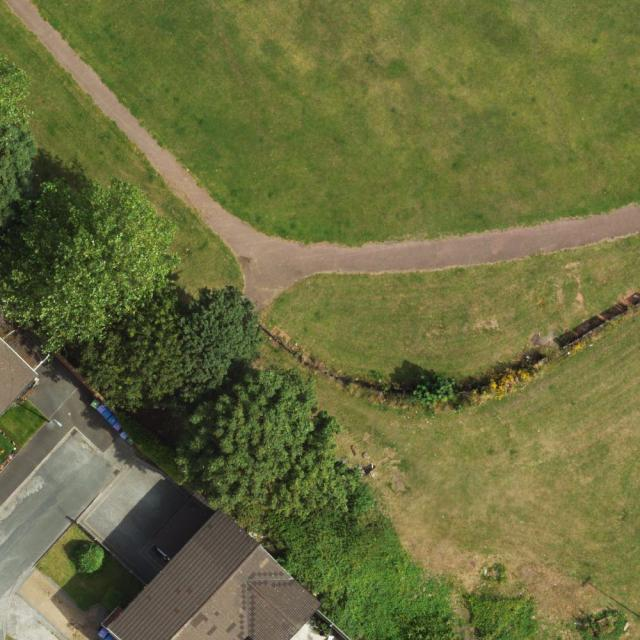roof: (108, 508, 322, 640), (0, 303, 49, 417)
